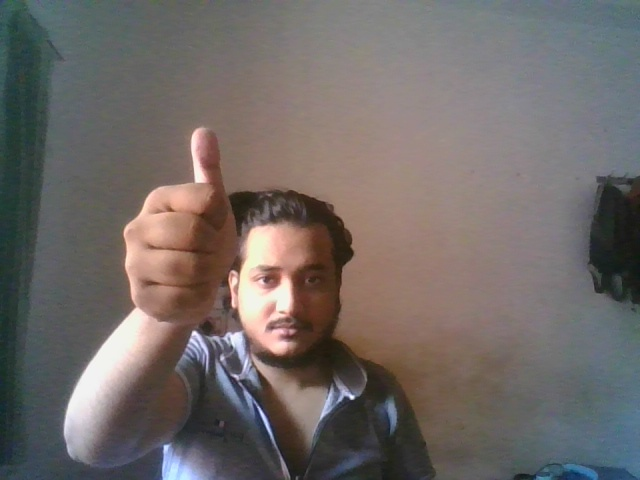ThumbsUp: (119, 126, 235, 327)
